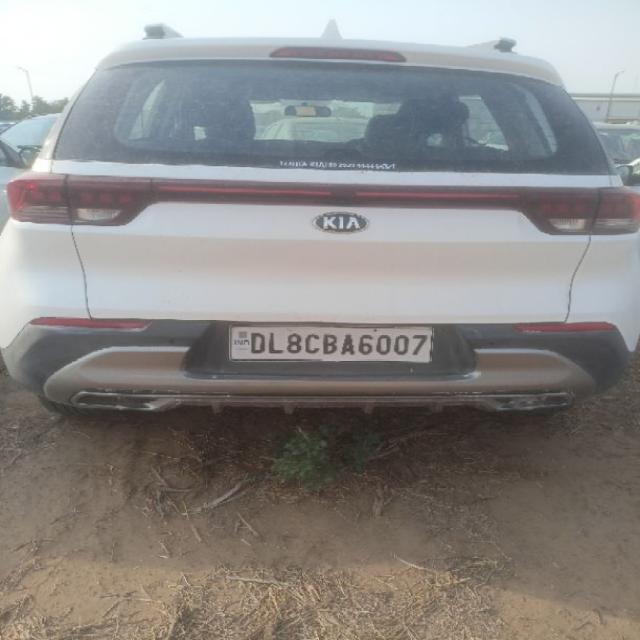license_plate: (226, 323, 434, 363)
